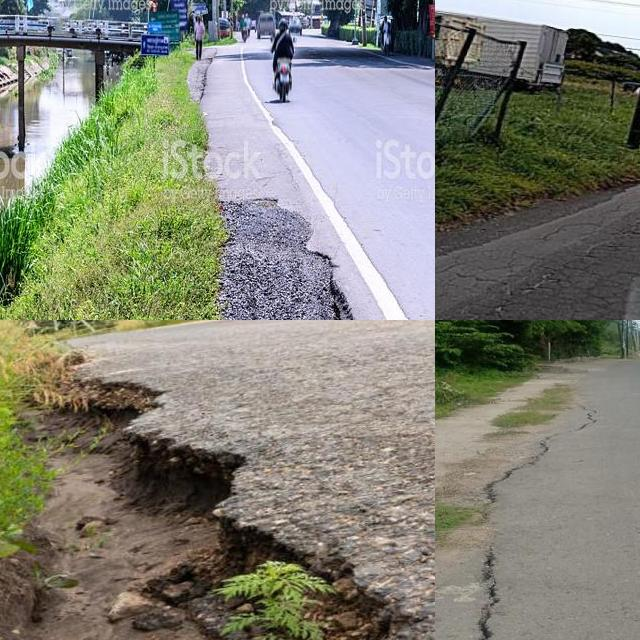Memanjang: (468, 396, 612, 640)
Pinggir: (11, 326, 435, 640), (201, 173, 365, 320)
